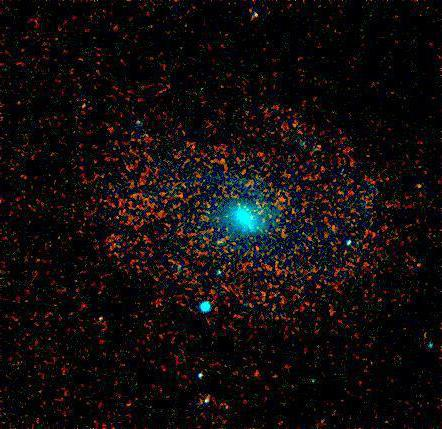star: (406, 169, 436, 199)
